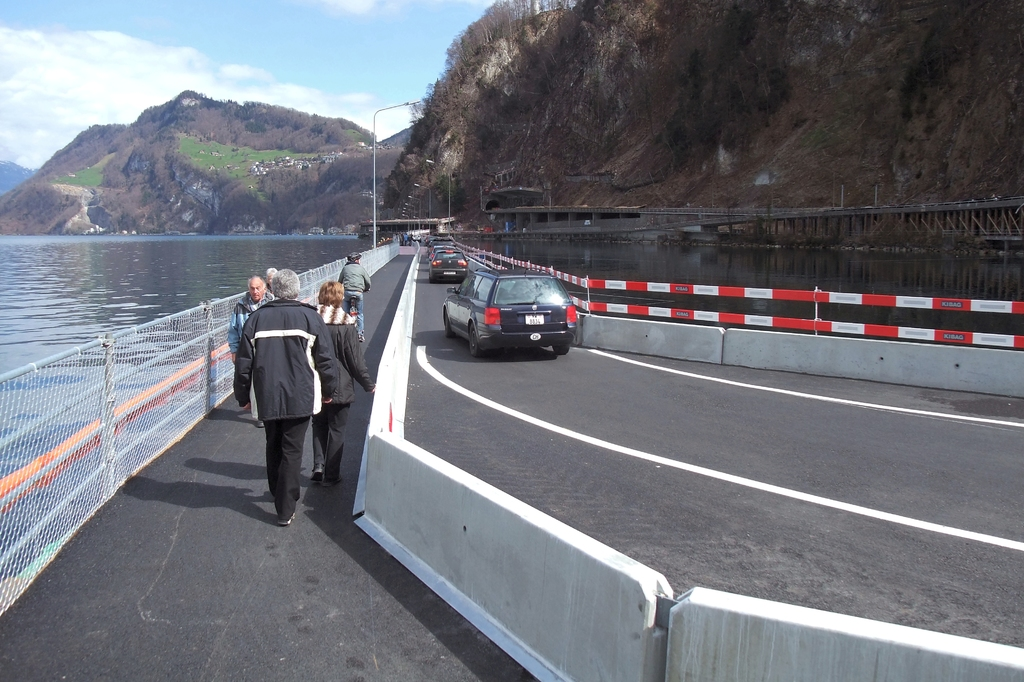cars: (443, 269, 576, 356), (425, 238, 468, 282)
